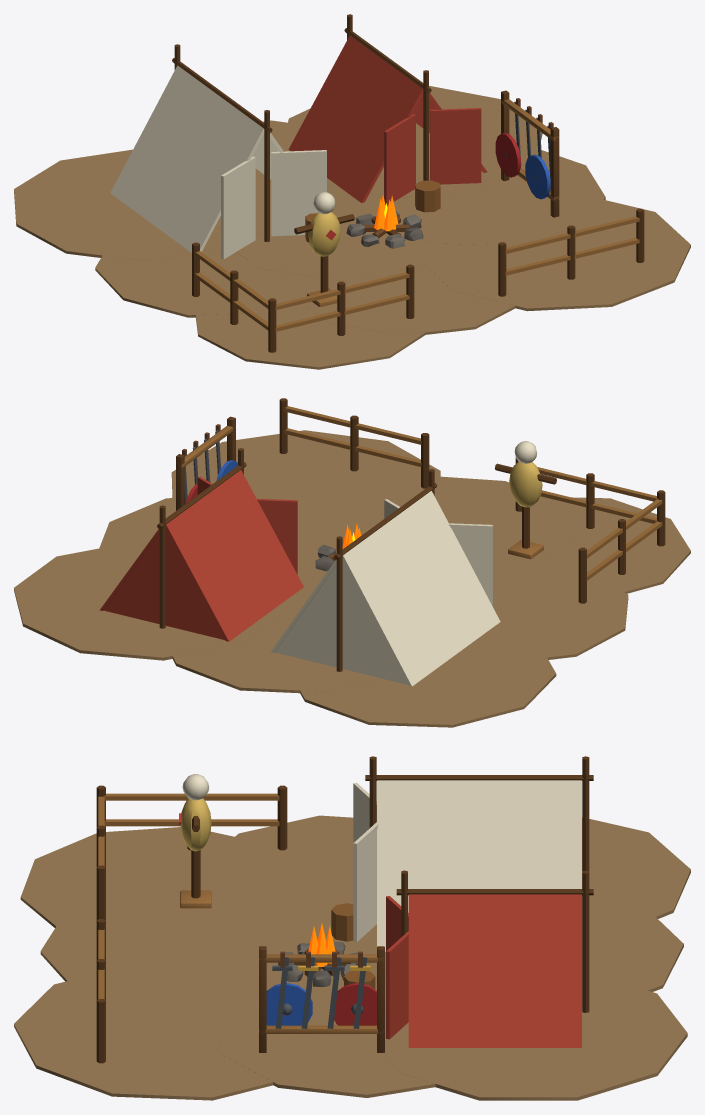
Rendered from koszary_poz04.glb.
3 renders of one model, top to bottom at view 1: azimuth 30°, elevation 25°; view 2: azimuth 150°, elevation 25°; view 3: azimuth 270°, elevation 25°, orthographic. The views are drawn at different scales.
Visible parts, largest first — view 1: koszary_poz04; view 2: koszary_poz04; view 3: koszary_poz04.
Boxes of the visible parts, x1=… form: koszary_poz04: x1=14, y1=14, x2=690, y2=369; koszary_poz04: x1=14, y1=398, x2=690, y2=727; koszary_poz04: x1=14, y1=756, x2=690, y2=1100.
Bounding box in the file's own units: 8.55 × 2.3 × 8.6.
